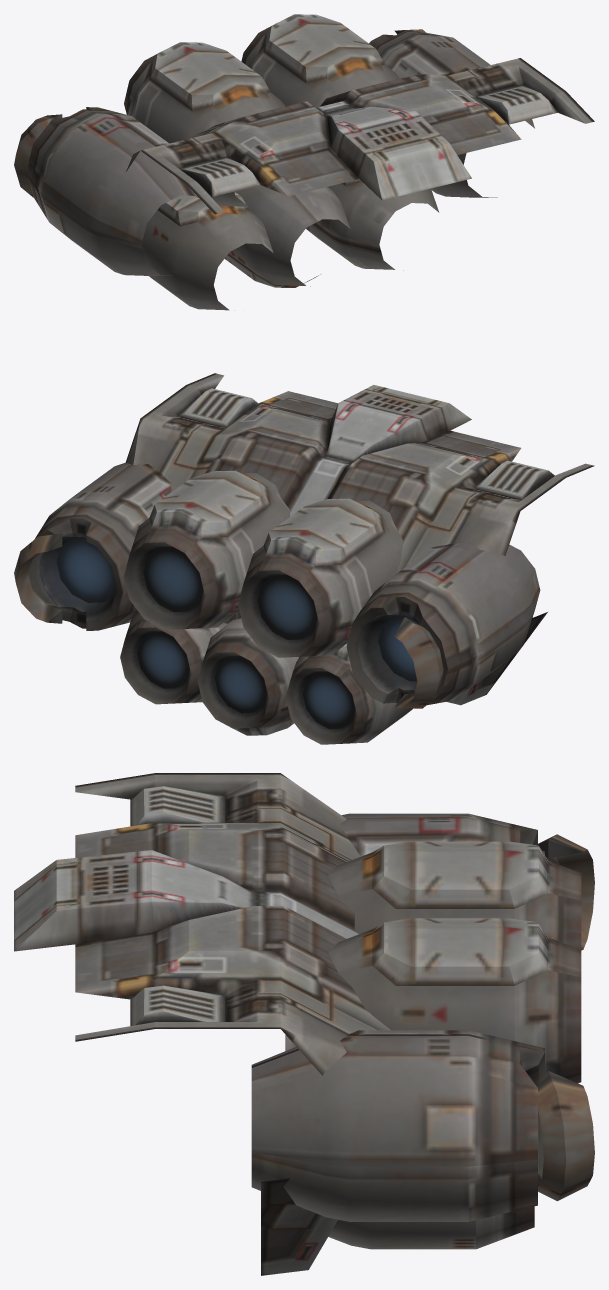
Rendered from engine_hgn_explorer_01_ion_04_t1.glb.
The picture shows the model from 3 angles, top to bottom: view 1: azimuth 30°, elevation 25°; view 2: azimuth 150°, elevation 25°; view 3: azimuth 270°, elevation 25°; orthographic projection. The views are drawn at different scales.
Parts seen in each view (by area): view 1: ion_engine_t1_l_01_LOD0; view 2: ion_engine_t1_l_01_LOD0; view 3: ion_engine_t1_l_01_LOD0.
Boxes of the visible parts, x1=… form: ion_engine_t1_l_01_LOD0: x1=14, y1=14, x2=594, y2=310; ion_engine_t1_l_01_LOD0: x1=14, y1=373, x2=594, y2=744; ion_engine_t1_l_01_LOD0: x1=14, y1=773, x2=594, y2=1275.
Bounding box in the file's own units: 2.09 × 1.03 × 1.72.
Materials: 1 (1 with a texture image).
